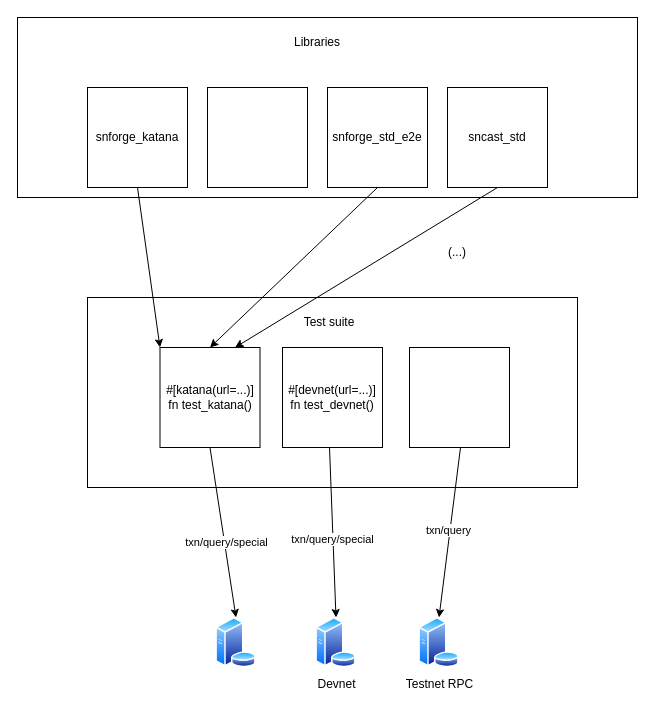
This 665x709 diagram has some shape labels left out. Each missing label, with the box of its shape:
#[testnet(url=...)] fn test_testnet(): (408, 346, 510, 448)
Katana: (215, 617, 256, 667)
snforge_devnet: (206, 86, 308, 188)
